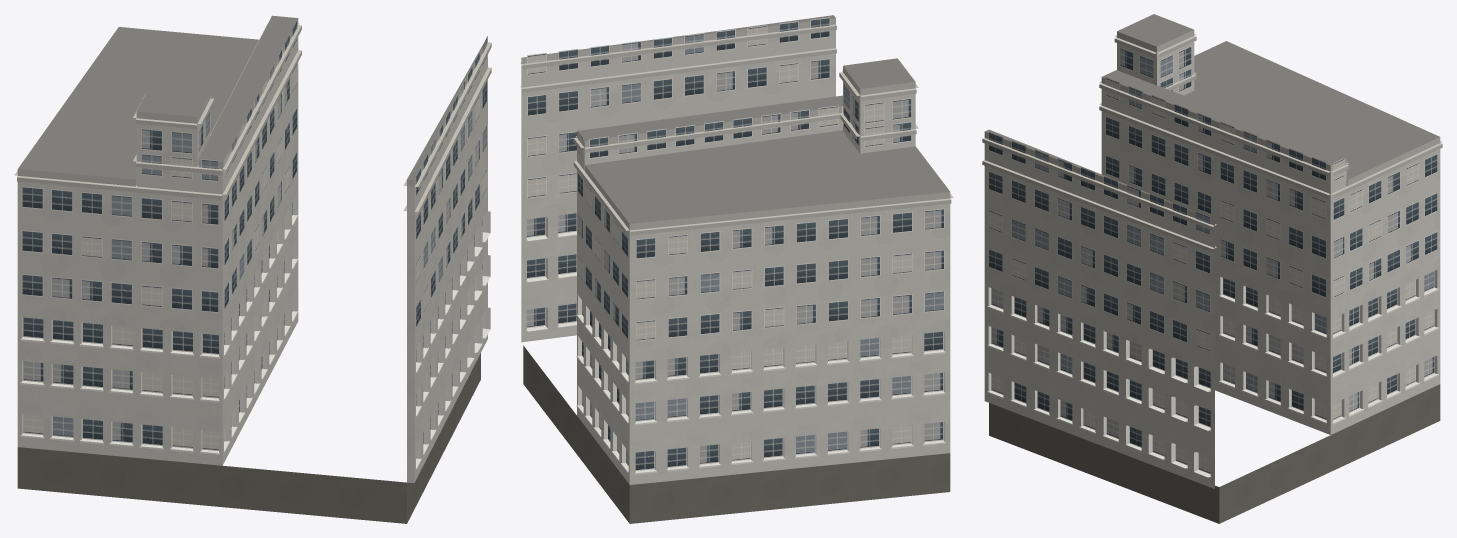
Rendered from z2c_ufer_white.glb.
The picture shows the model from 3 angles, left to right: view 1: azimuth 30°, elevation 25°; view 2: azimuth 150°, elevation 25°; view 3: azimuth 270°, elevation 25°; orthographic projection. The views are drawn at different scales.
Visible parts, largest first — view 1: z2c_ufer_white; view 2: z2c_ufer_white; view 3: z2c_ufer_white.
Part boxes in pixels (bbox=[...]): z2c_ufer_white: bbox=[14, 15, 491, 523]; z2c_ufer_white: bbox=[520, 15, 953, 523]; z2c_ufer_white: bbox=[982, 14, 1442, 523].
Size of the model in its own units: 35.47 by 28.08 by 33.99.
Materials: 3 (3 with a texture image).
